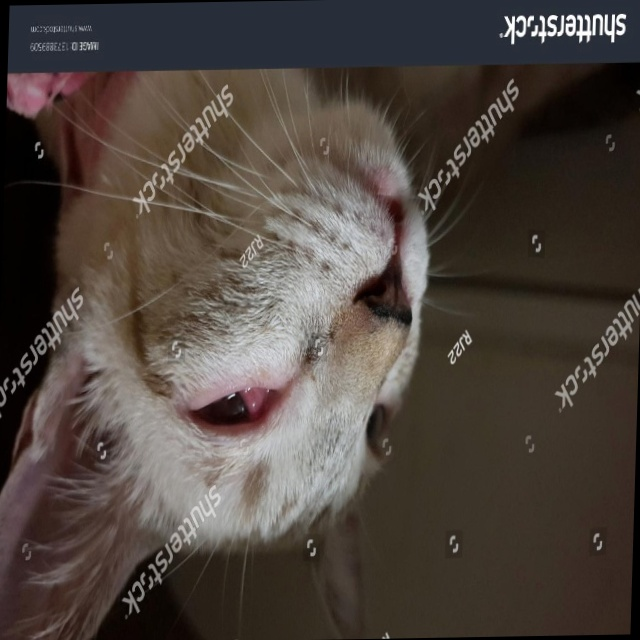eye_infection: (187, 383, 277, 437)
